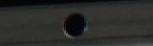holes: (62, 11, 88, 38)
